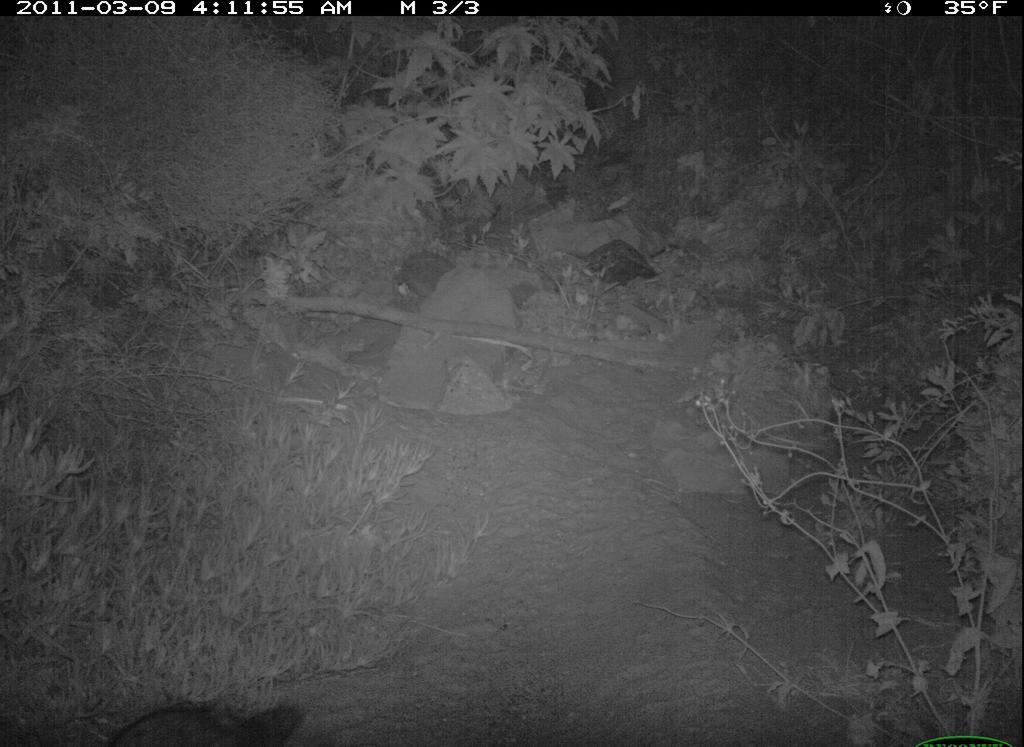raccoon: (99, 669, 314, 745)
